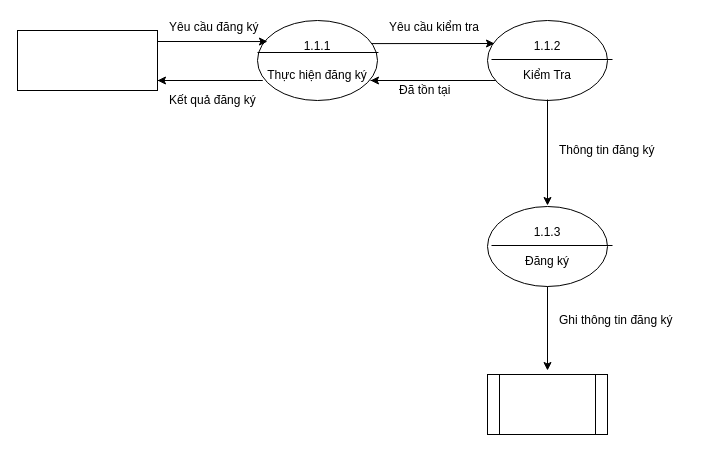
The diagram is 705 pixels wide and 452 high, and some of its shapes have lost their labels. The shapes that lost their labels are listed below. From the top down, each one's box as (x1, y1, x2, y2) in pixels, then its label:
(16, 30, 158, 90): Sinh Viên
(486, 374, 608, 434): Quản lý đăng ký
